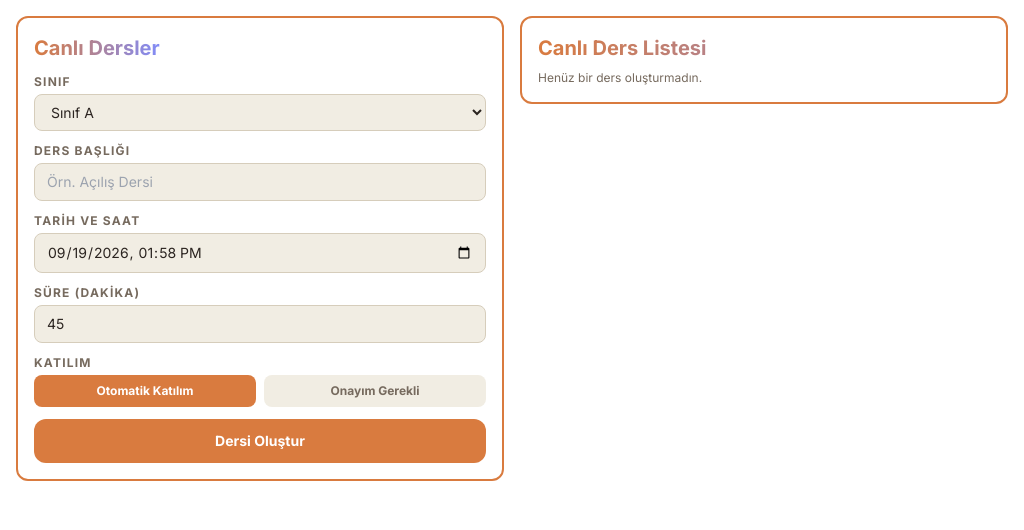
başlık boşsa dersi oluşturamaz, hata gösterir
Click the button "Dersi Oluştur".
click(260, 441)  # box [34,419,486,463]
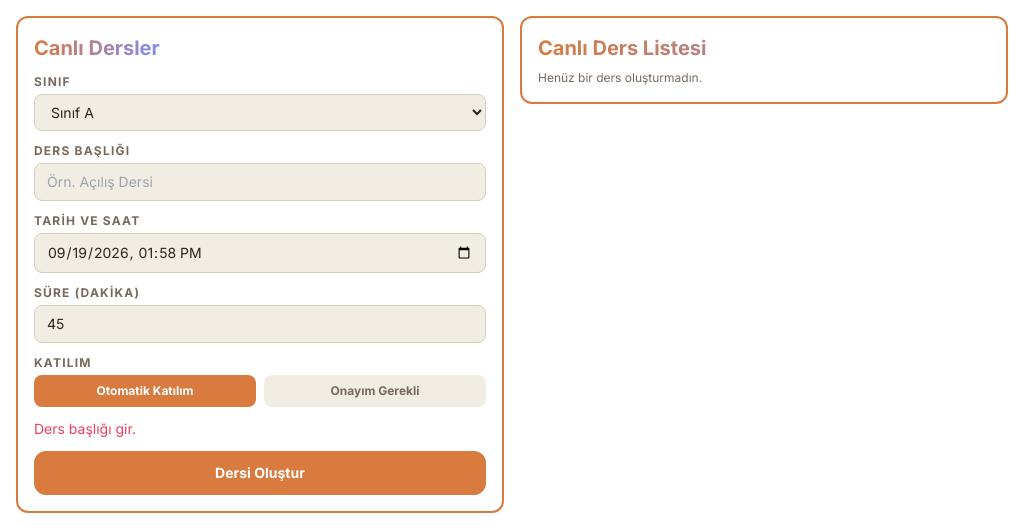
Expected: the text "Ders başlığı gir." is shown, [34,420,136,437]
